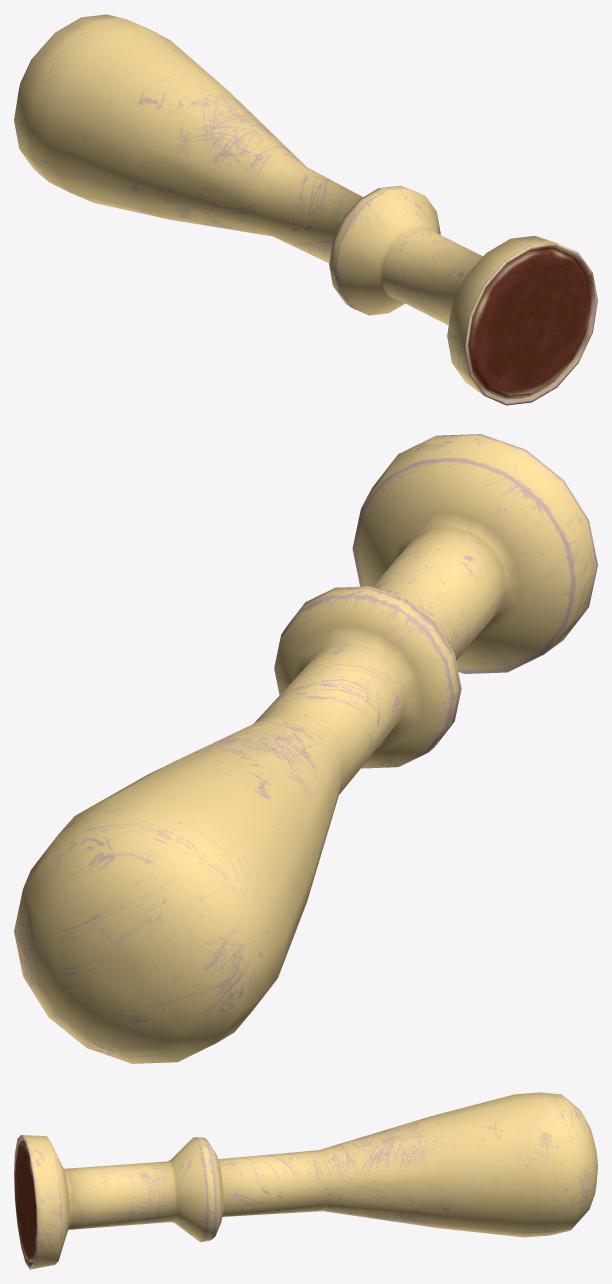
The model's file is letter_stamp.fbx.
The picture shows the model from 3 angles, top to bottom: view 1: azimuth 30°, elevation 25°; view 2: azimuth 150°, elevation 25°; view 3: azimuth 270°, elevation 25°; orthographic projection. The views are drawn at different scales.
Visible parts, largest first — view 1: stamp_letter; view 2: stamp_letter; view 3: stamp_letter.
Part boxes in pixels (x1,y1,x2,y2): stamp_letter: (14,14,597,405); stamp_letter: (14,434,597,1063); stamp_letter: (14,1092,597,1269).
Size of the model in its own units: 6.29 by 3.92 by 16.11.
1 material, 1 textured.
